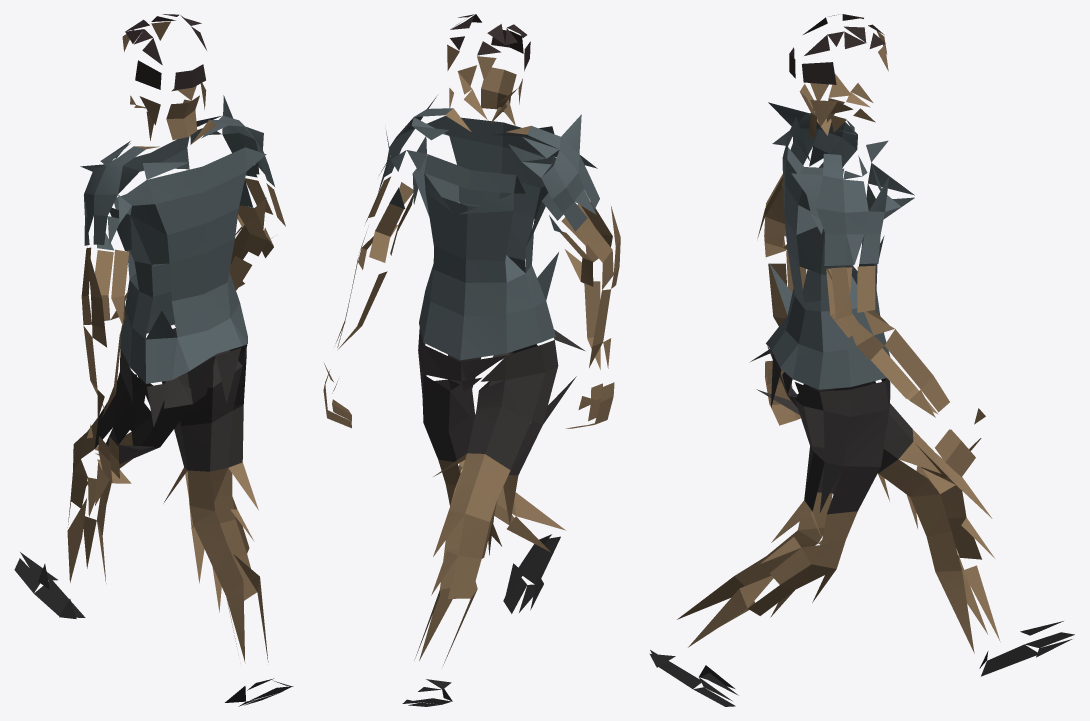
Rendered from personfar_3_w1.fbx.
3 renders of one model, left to right at view 1: azimuth 30°, elevation 25°; view 2: azimuth 150°, elevation 25°; view 3: azimuth 270°, elevation 25°, orthographic. The views are drawn at different scales.
Visible parts, largest first — view 1: BaseHuman; view 2: BaseHuman; view 3: BaseHuman.
Boxes of the visible parts, x1,y1,x2,y2 form: BaseHuman: [14, 14, 293, 706]; BaseHuman: [323, 14, 620, 706]; BaseHuman: [649, 14, 1074, 706].
Size of the model in its own units: 0.3462 by 0.9788 by 0.5617.
